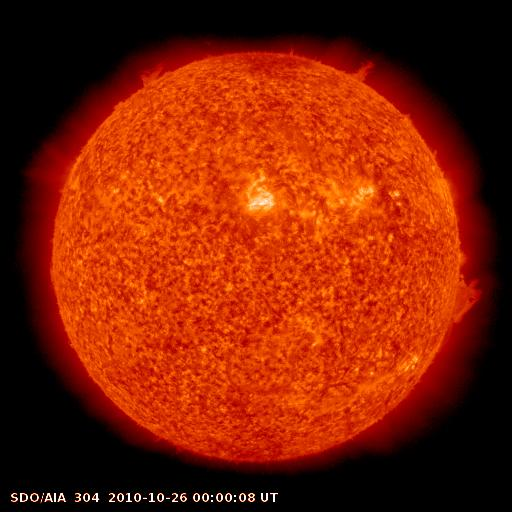prominence: (442, 243, 501, 332), (130, 56, 189, 94), (348, 52, 386, 96)
